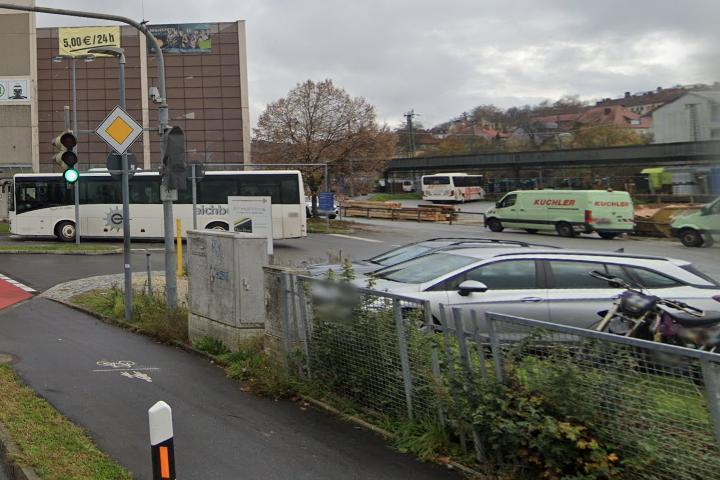traffic_sign: (92, 102, 144, 155)
vehicle: (314, 235, 720, 344), (6, 168, 312, 244), (480, 184, 638, 241), (418, 171, 491, 205)
